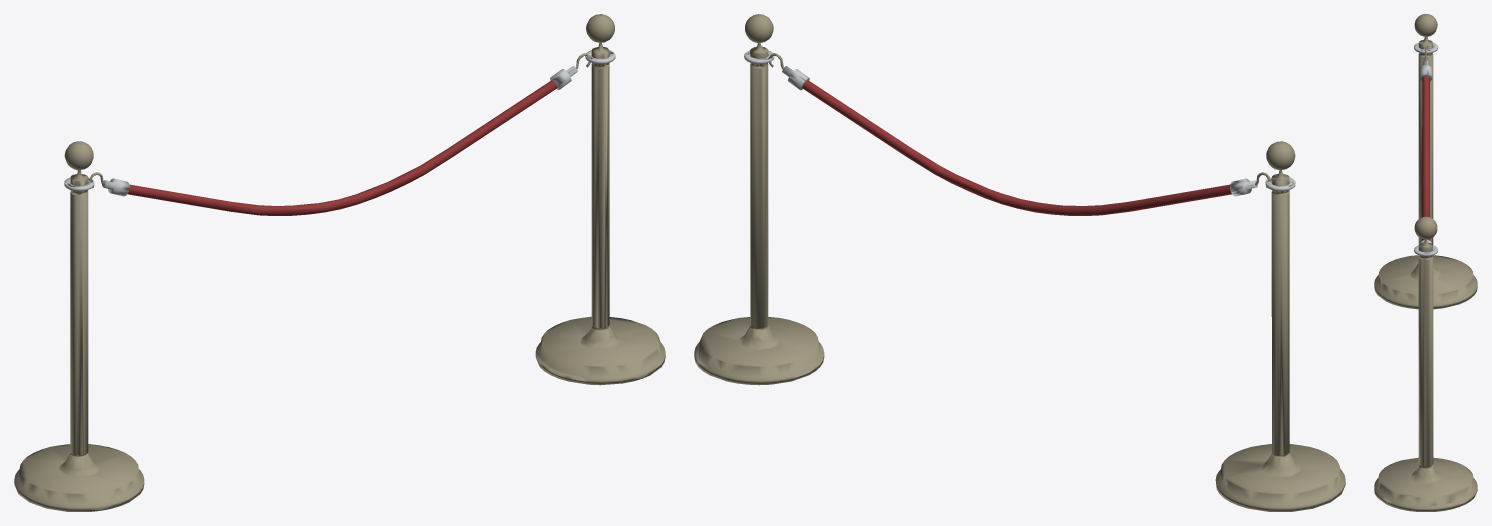
Rendered from vip_rope_barrier_new.glb.
The picture shows the model from 3 angles, left to right: view 1: azimuth 30°, elevation 25°; view 2: azimuth 150°, elevation 25°; view 3: azimuth 270°, elevation 25°; orthographic projection. The views are drawn at different scales.
Visible parts, largest first — view 1: defaultMaterial.004, defaultMaterial.005, defaultMaterial.001; view 2: defaultMaterial.004, defaultMaterial.005, defaultMaterial.001; view 3: defaultMaterial.004, defaultMaterial.005, defaultMaterial.001.
Part boxes in pixels (x1=…): defaultMaterial.004: x1=14, y1=14, x2=665, y2=511; defaultMaterial.005: x1=128, y1=80, x2=557, y2=215; defaultMaterial.001: x1=64, y1=50, x2=615, y2=196; defaultMaterial.004: x1=694, y1=14, x2=1345, y2=511; defaultMaterial.005: x1=802, y1=80, x2=1231, y2=215; defaultMaterial.001: x1=744, y1=50, x2=1295, y2=196; defaultMaterial.004: x1=1374, y1=14, x2=1477, y2=511; defaultMaterial.005: x1=1422, y1=76, x2=1429, y2=240; defaultMaterial.001: x1=1414, y1=42, x2=1438, y2=256.
Size of the model in its own units: 27.6 by 14.23 by 4.9.
Materials: 3 (2 with a texture image).
